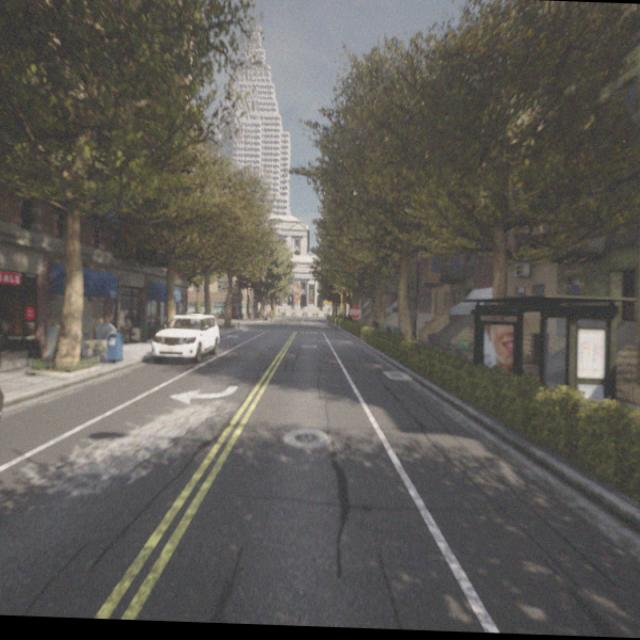stop sign: (348, 302, 365, 321)
